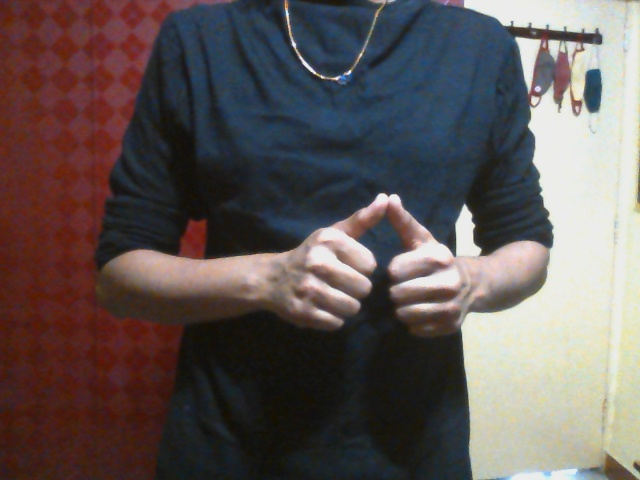A: (275, 191, 476, 340)
